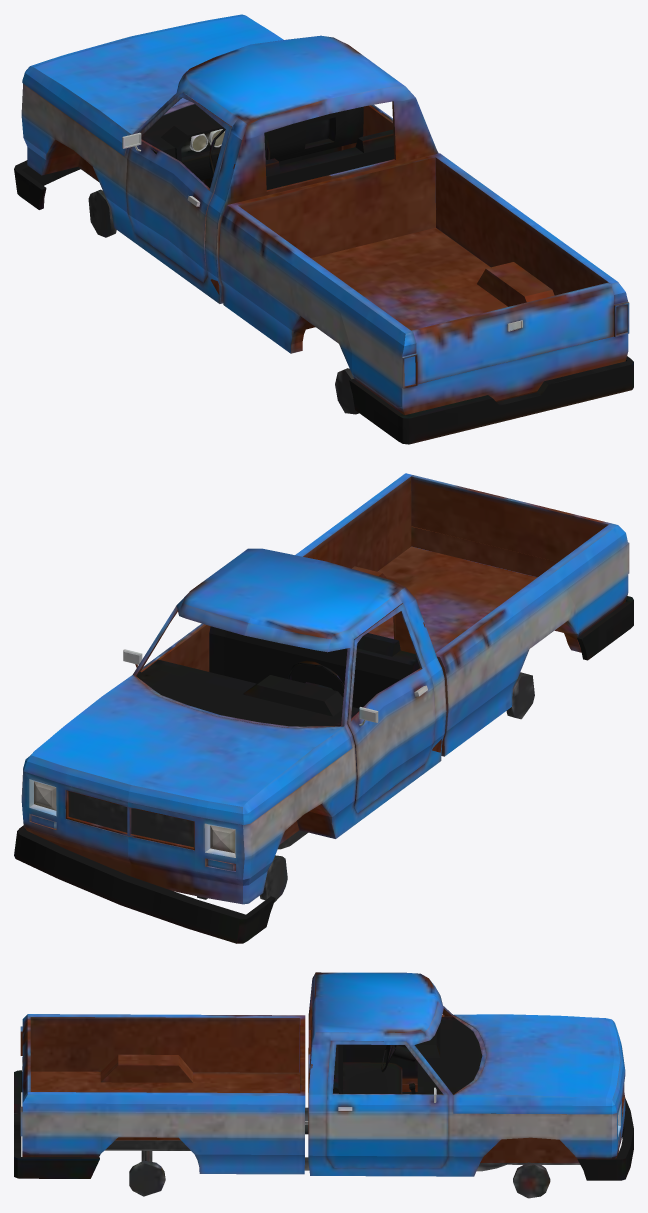
The model's file is p_pickup.glb.
3 renders of one model, top to bottom at view 1: azimuth 30°, elevation 25°; view 2: azimuth 150°, elevation 25°; view 3: azimuth 270°, elevation 25°, orthographic. The views are drawn at different scales.
Visible parts, largest first — view 1: frame_Material #25_0; view 2: frame_Material #25_0; view 3: frame_Material #25_0.
Part boxes in pixels (x1,y1,x2,y2): frame_Material #25_0: [14, 14, 633, 444]; frame_Material #25_0: [14, 473, 633, 943]; frame_Material #25_0: [14, 972, 633, 1198].
Bounding box in the file's own units: 2.16 × 1.76 × 5.87.
Materials: 1 (1 with a texture image).
